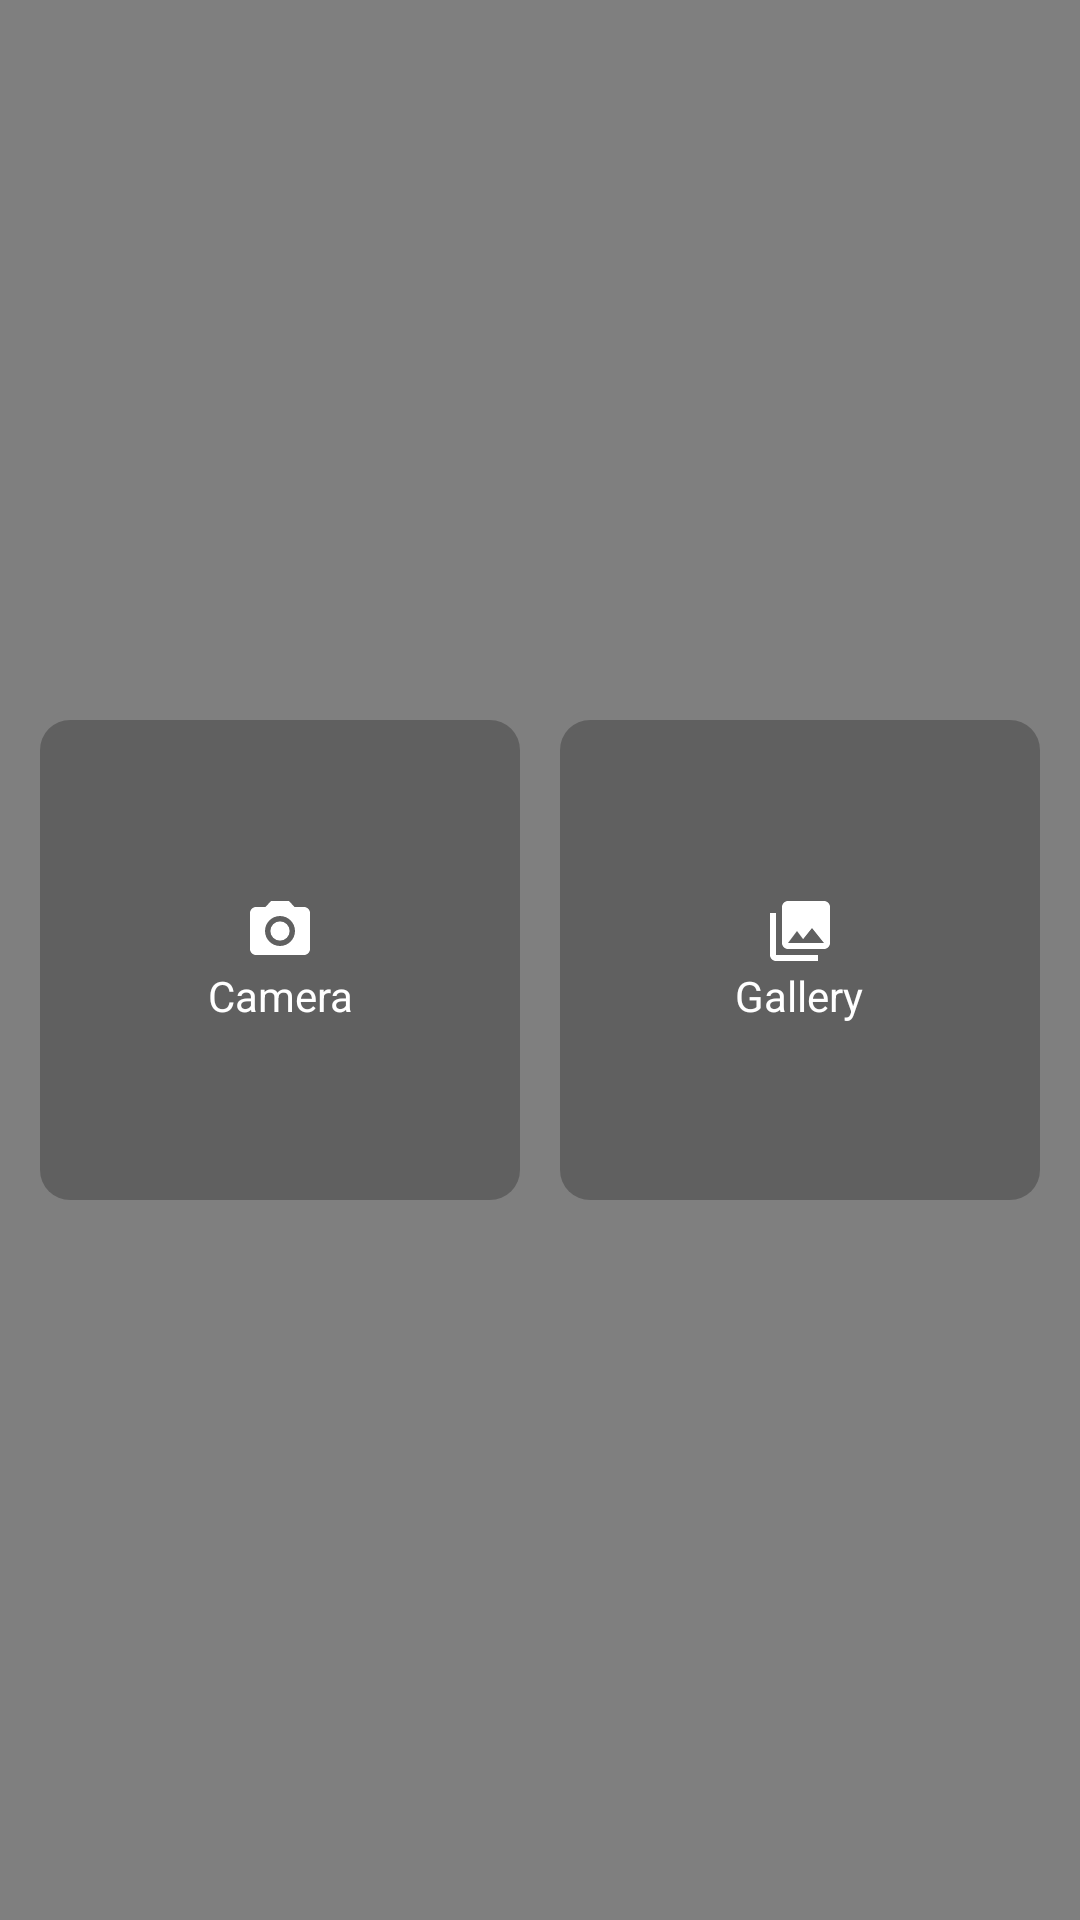

Icons on this 1080w x 1920h Android screen, each with its box as [x1=x1, y1=y1, x2=x2, y2=y2]:
photo library: [x1=770, y1=901, x2=830, y2=961]
